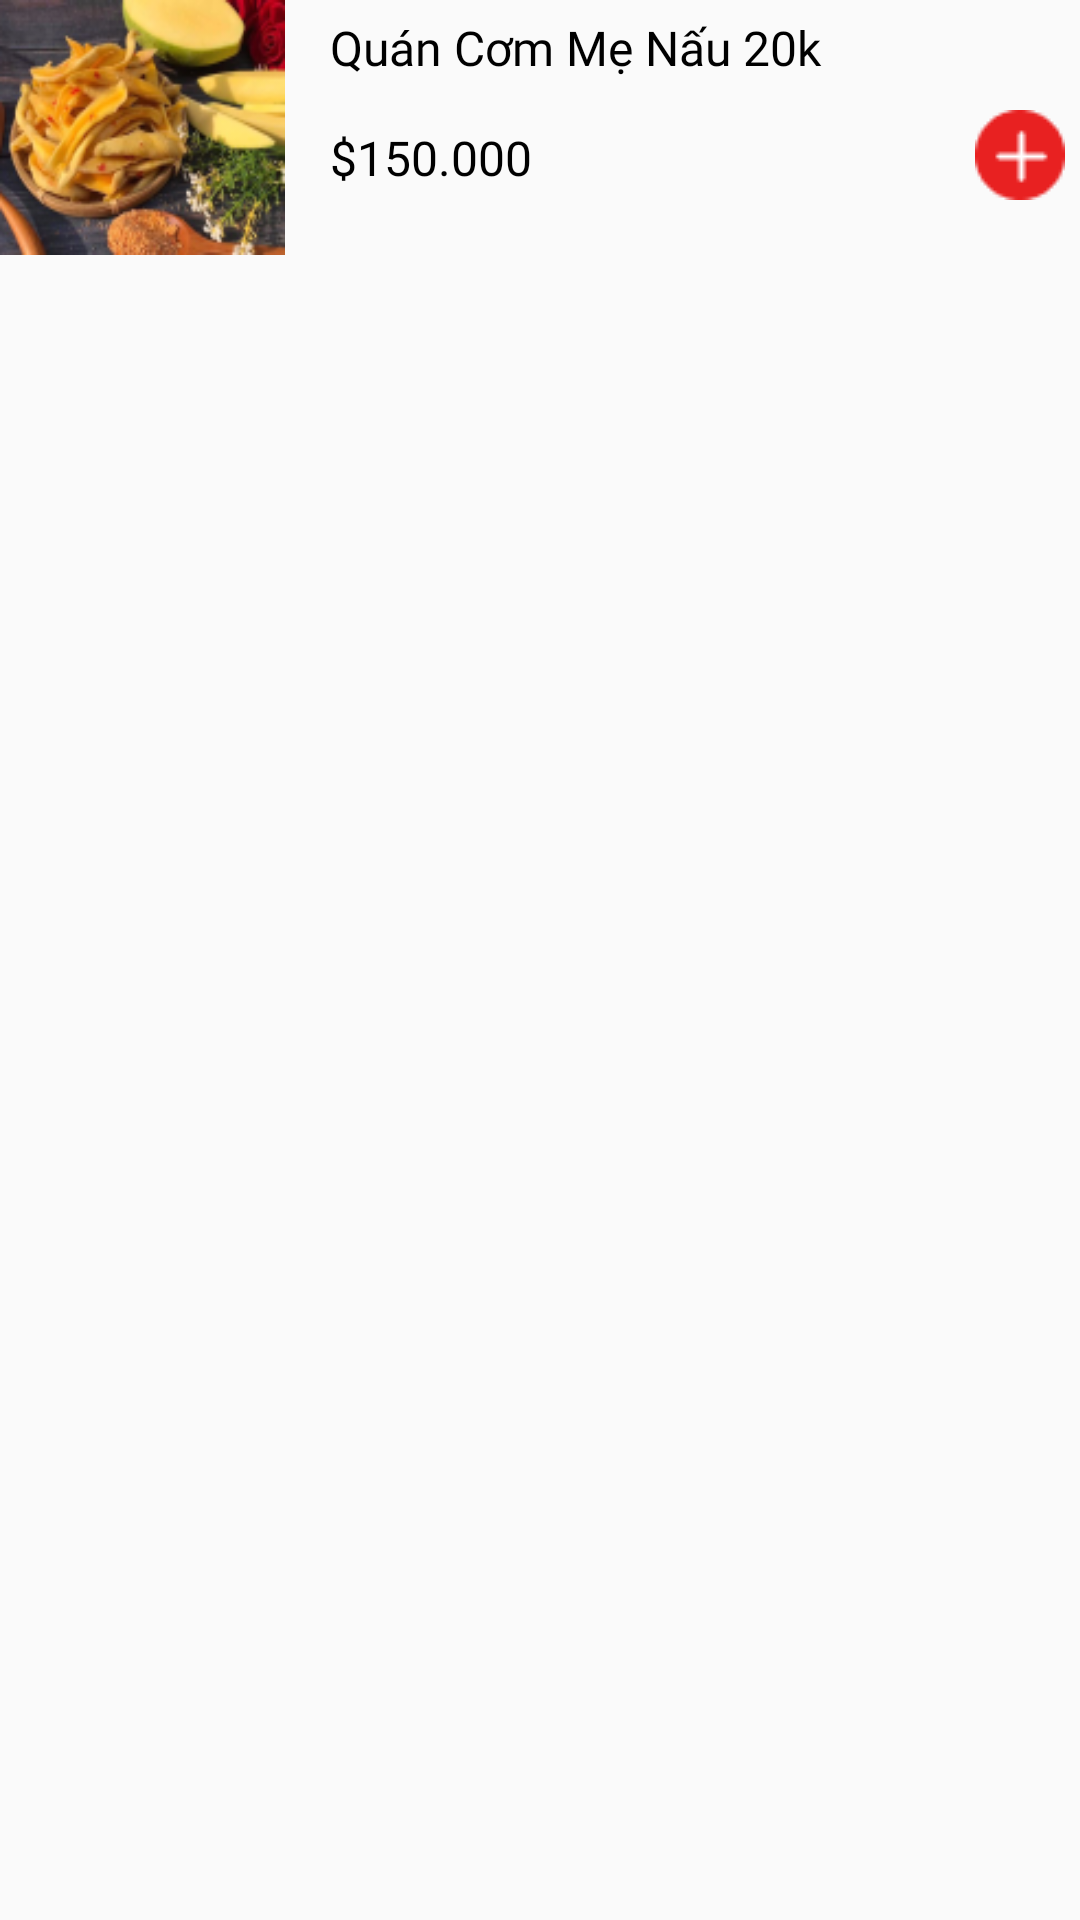

Icon click points for this 1080px x 1920px phone screenshot, format (x,y):
add cart: (1020,155)
